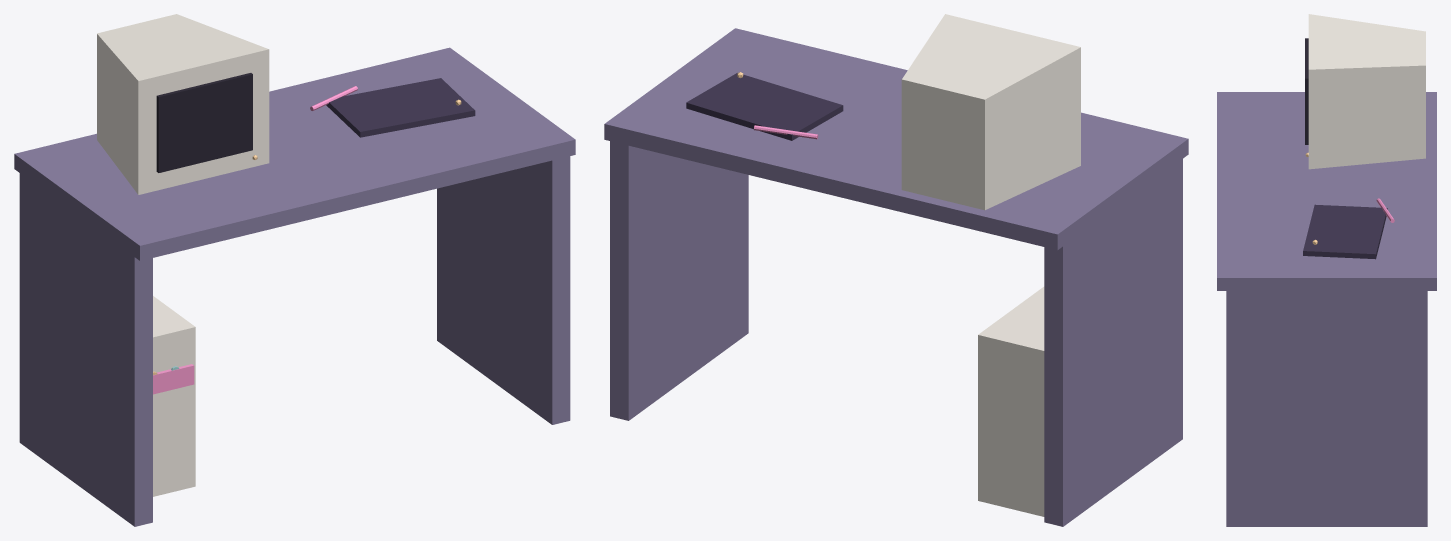
Rendered from hotspot_uiux_desk.glb.
3 renders of one model, left to right at view 1: azimuth 30°, elevation 25°; view 2: azimuth 150°, elevation 25°; view 3: azimuth 270°, elevation 25°, orthographic. The views are drawn at different scales.
Parts seen in each view (by area): view 1: hotspot_uiux_desk; view 2: hotspot_uiux_desk; view 3: hotspot_uiux_desk.
Part boxes in pixels (bbox=[...]): hotspot_uiux_desk: bbox=[14, 14, 575, 526]; hotspot_uiux_desk: bbox=[604, 14, 1188, 526]; hotspot_uiux_desk: bbox=[1217, 14, 1436, 526].
Size of the model in its own units: 1.2 by 1.05 by 0.6.
